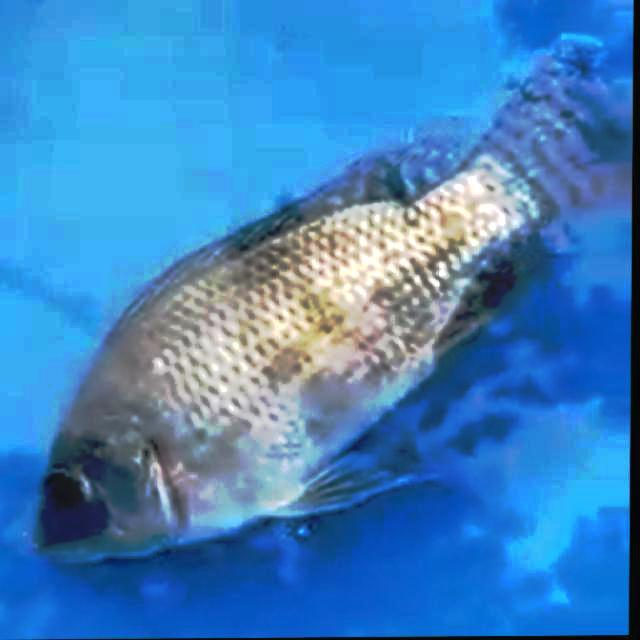Columnaris Disease: (35, 42, 631, 554)
